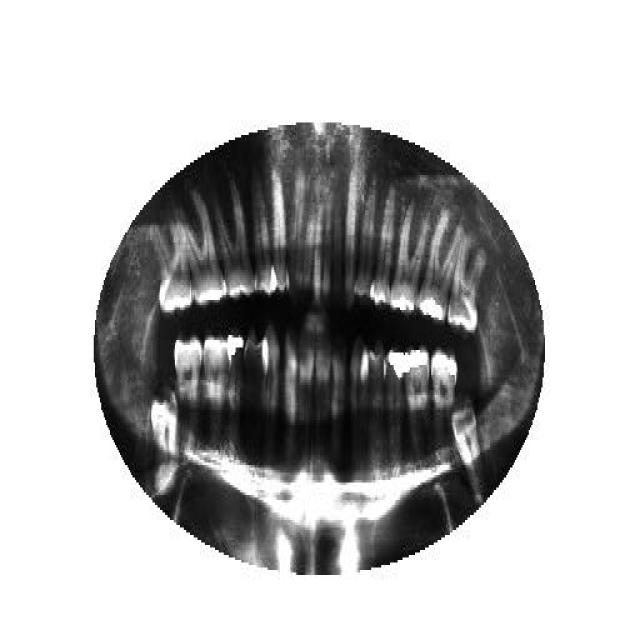Fillings: (418, 210, 463, 325), (389, 200, 429, 315), (430, 348, 458, 438), (405, 348, 427, 462), (385, 345, 404, 473), (227, 332, 245, 418)
Impacted Tooth: (452, 398, 482, 492)
